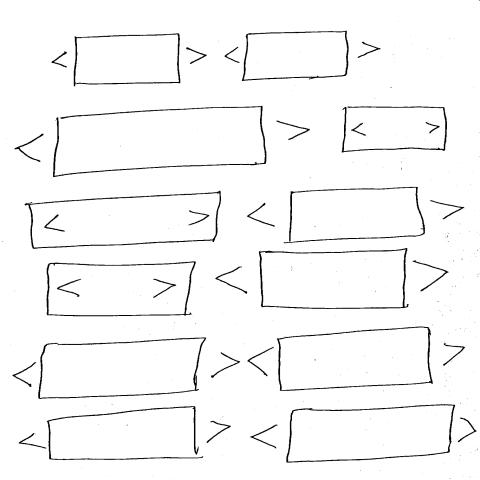Carousel: (14, 106, 313, 179), (11, 336, 245, 402), (214, 249, 451, 313), (245, 327, 467, 395), (247, 403, 479, 465), (245, 189, 466, 245), (16, 406, 235, 462), (24, 190, 225, 251), (43, 260, 199, 320), (47, 33, 211, 90), (223, 29, 386, 84), (340, 105, 450, 154)
